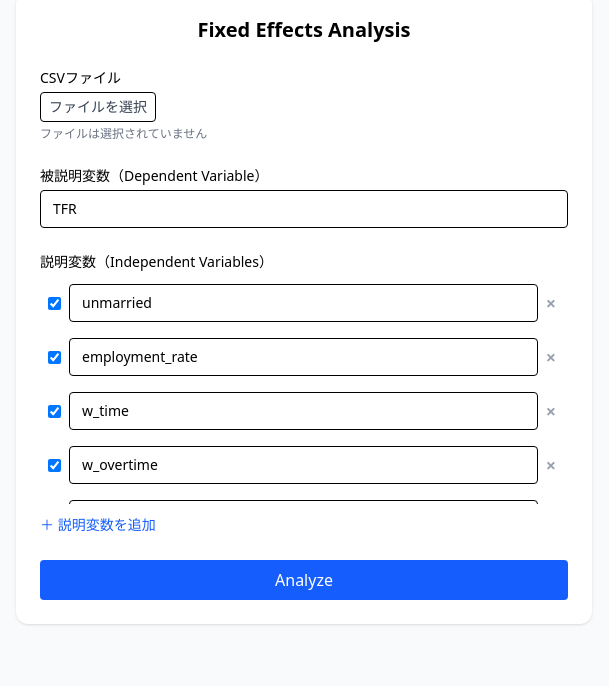
Test: AnalysisPage - Integration Test › renders form and displays validation error when no CSV file is selected
The image size is (609, 686).
What coordinates should you click on to do the following:
click the button "Analyze"
I would click on:
 (304, 580)
Its box is [40,560,568,600].
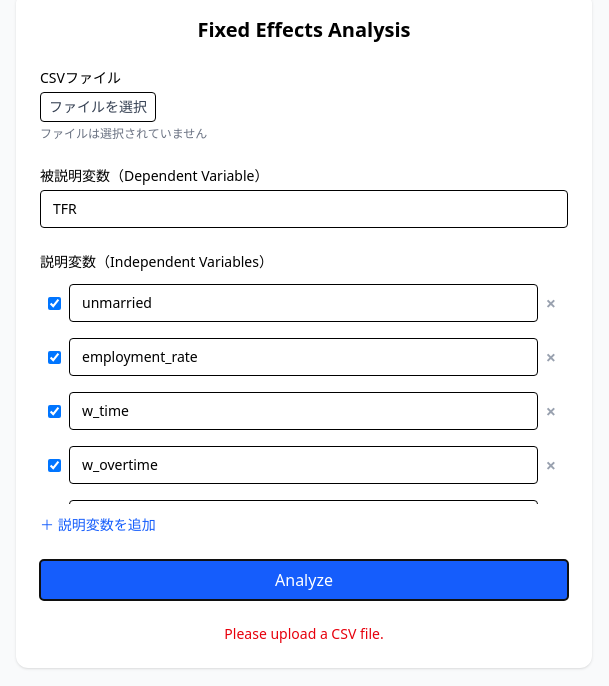
Check: the heading "Fixed Effects Analysis" is shown, box [198,16,410,43]
Check: the text "Please upload a CSV file." is shown, box [224,624,384,643]
